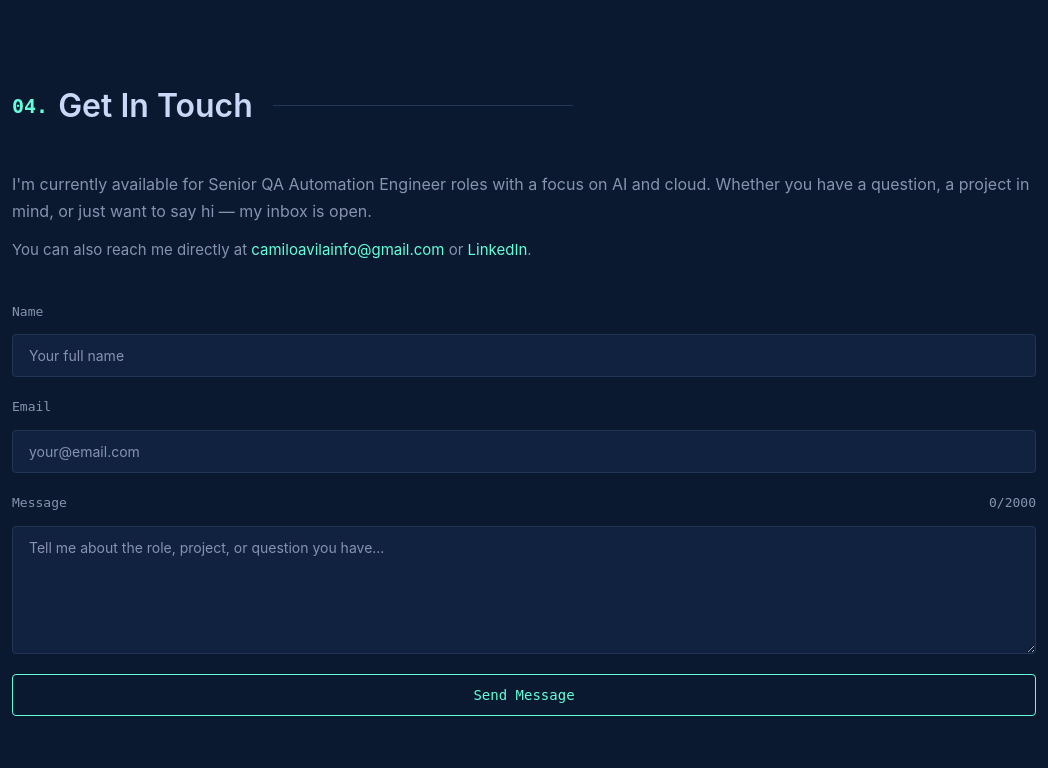
Scenario: ContactForm › Field Validation › shows error for invalid email format
Type "John Doe" into the field labelled "Name" at (524, 356), box [12, 334, 1036, 377]
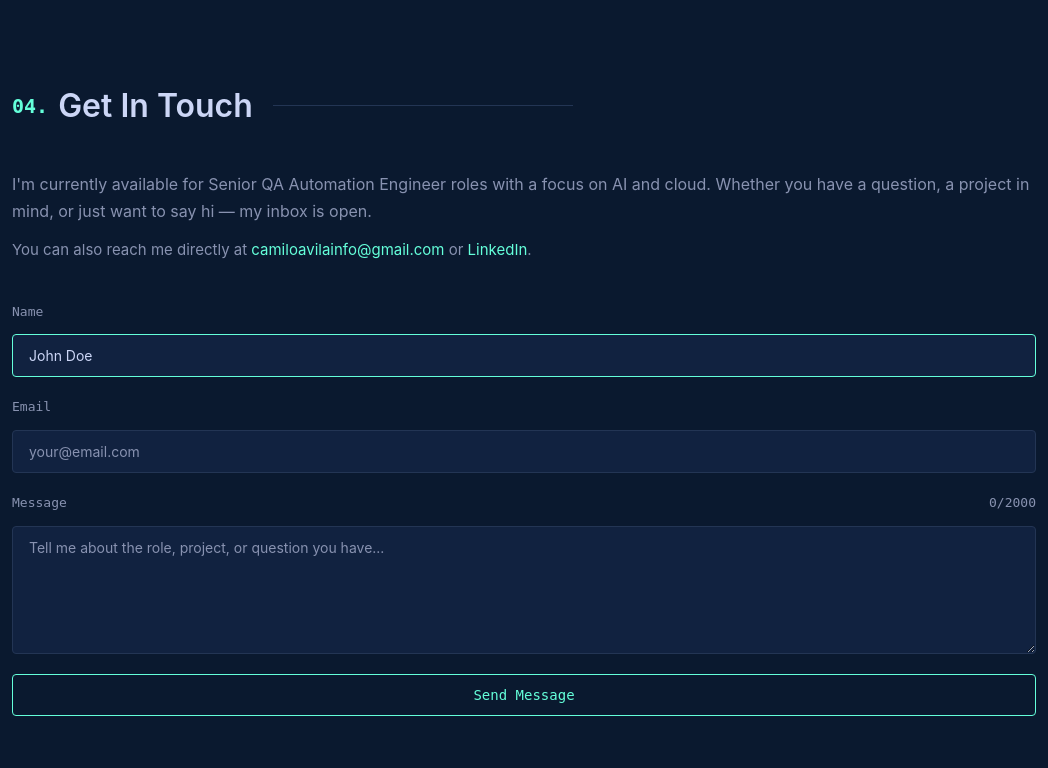
Type "invalid-email" into the field labelled "Email" at (524, 452), box [12, 430, 1036, 473]
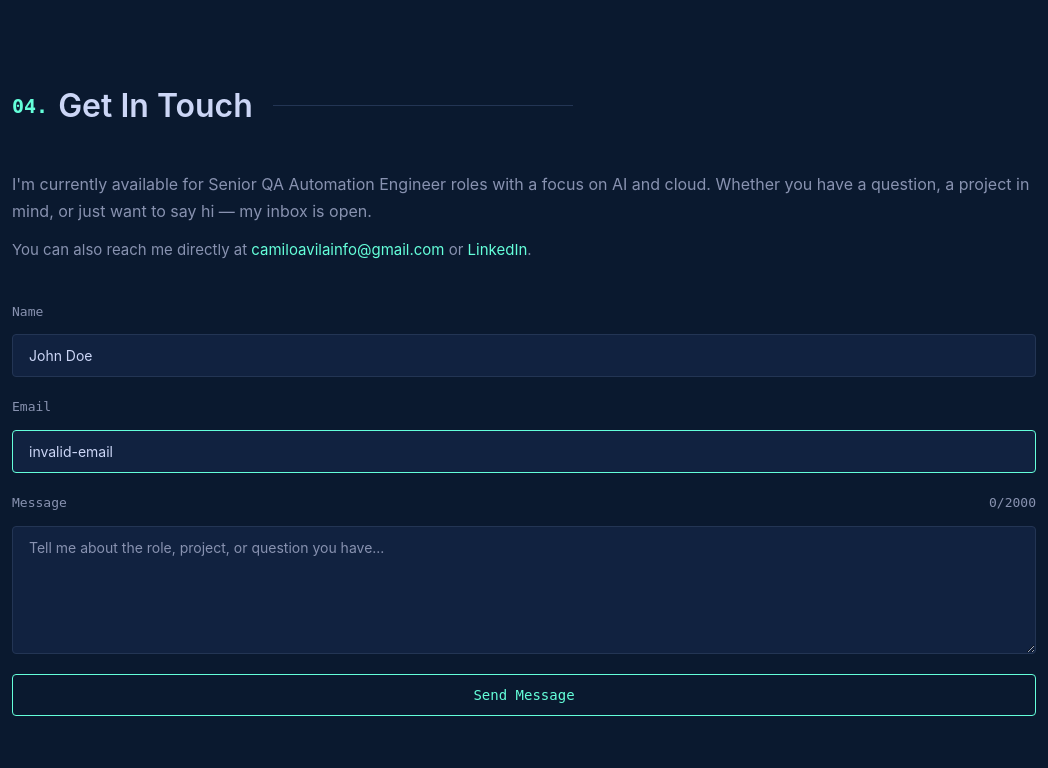
Type "Test message" into the text box labelled "Message 0/2000" at (524, 590), box [12, 526, 1036, 654]
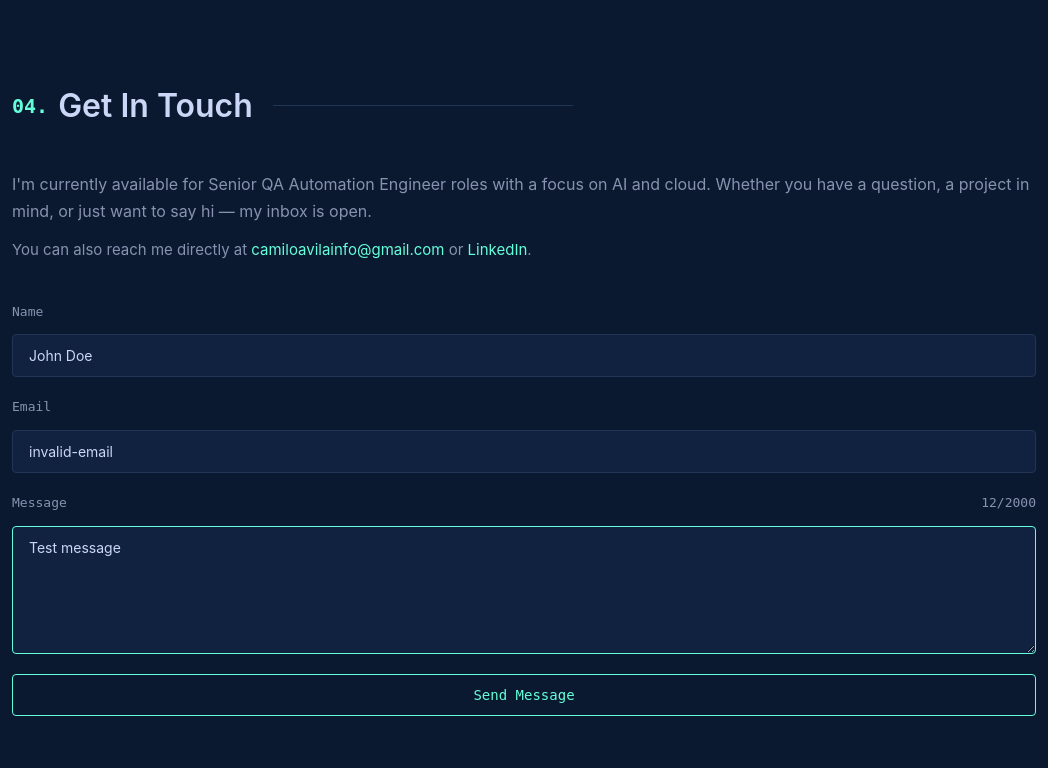
Click the button "Send Message" at (524, 695), box [12, 674, 1036, 716]
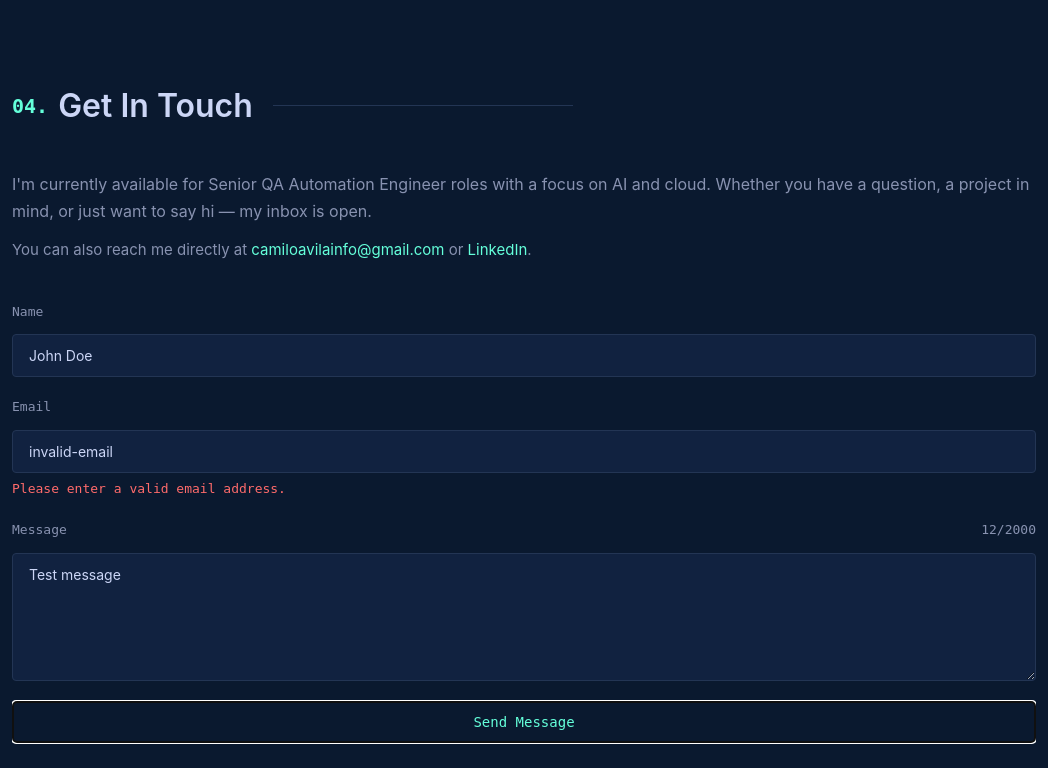
Check: the text "Please enter a valid email address." is shown, box [12, 481, 286, 496]
